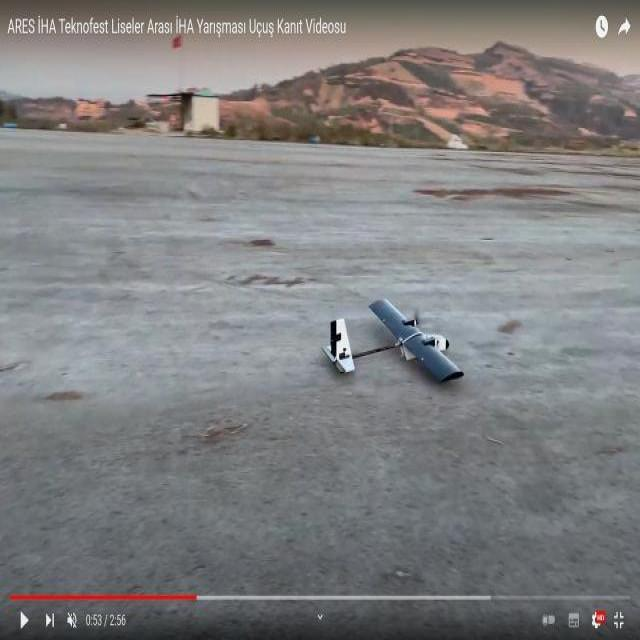UAV: (330, 276, 468, 402)
